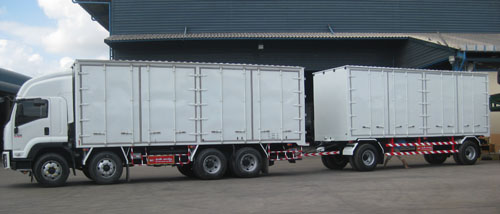truck: (3, 56, 493, 189)
